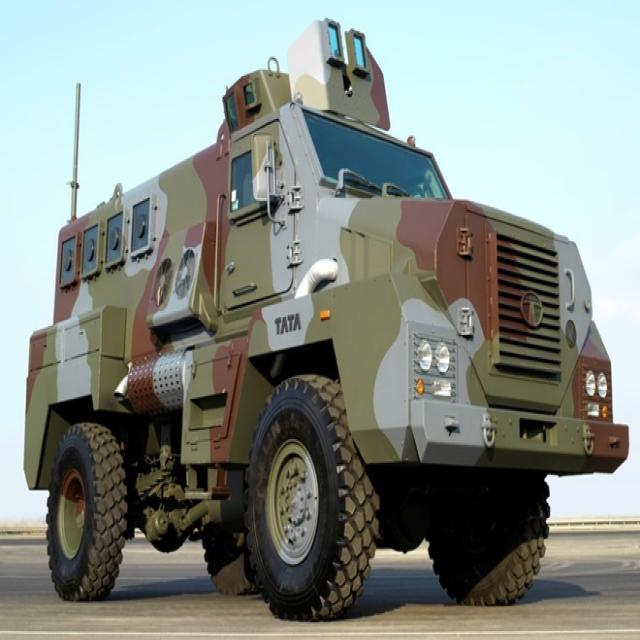truck: (24, 19, 629, 619)
